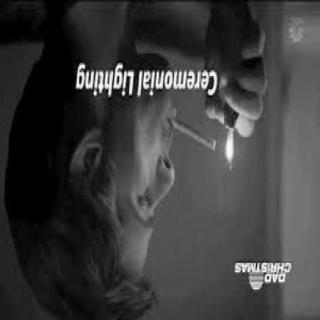Fire: (220, 121, 242, 176)
